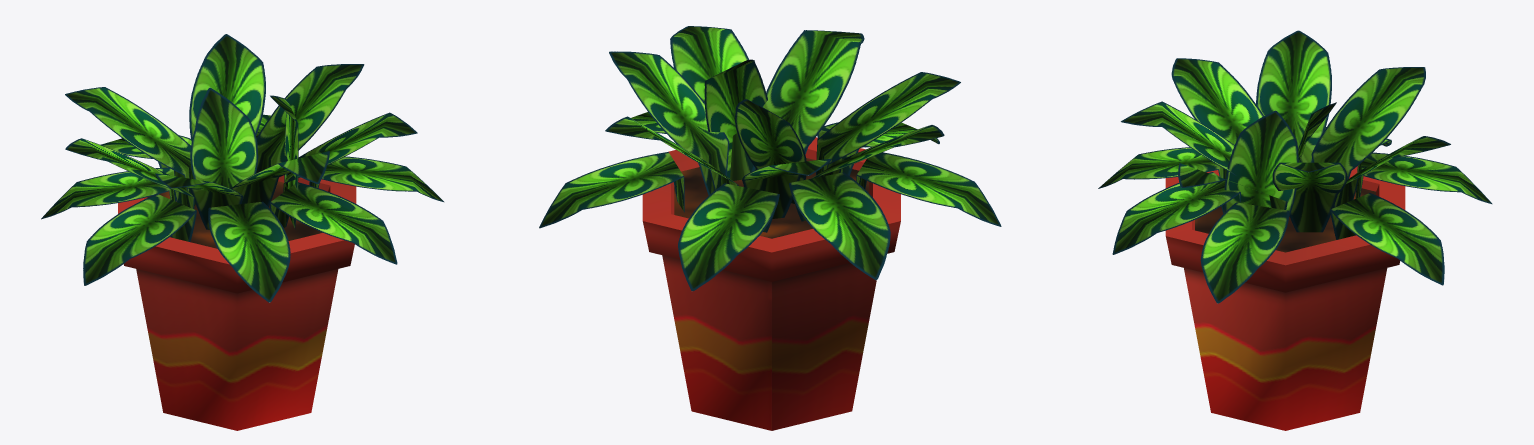
The model's file is Potted Plant_B_2.FBX.
The picture shows the model from 3 angles, left to right: view 1: azimuth 30°, elevation 25°; view 2: azimuth 150°, elevation 25°; view 3: azimuth 270°, elevation 25°; orthographic projection. The views are drawn at different scales.
Parts seen in each view (by area): view 1: Potted Plant _B; view 2: Potted Plant _B; view 3: Potted Plant _B.
Part boxes in pixels (left/top/right/bottom): Potted Plant _B: left=41, top=34, right=444, bottom=430; Potted Plant _B: left=539, top=26, right=1001, bottom=430; Potted Plant _B: left=1098, top=30, right=1492, bottom=430.
Size of the model in its own units: 151 by 108 by 143.
2 materials, 2 textured.
